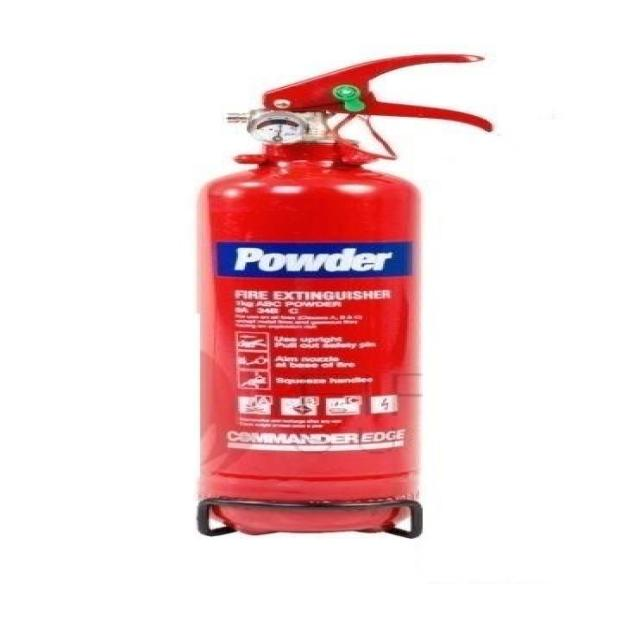fire_extinguisher: (181, 47, 502, 537)
